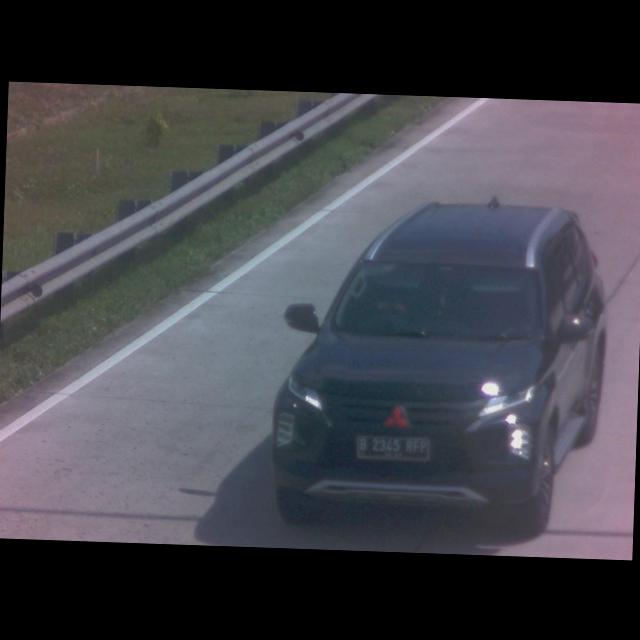plate: (353, 431, 430, 461)
